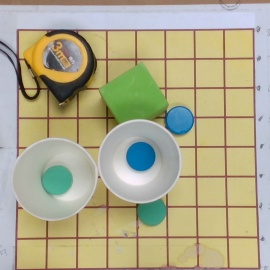blue: (166, 105, 194, 135)
cup_blue: (99, 119, 184, 203)
cup_green: (13, 137, 98, 221)
green: (139, 198, 167, 227)
